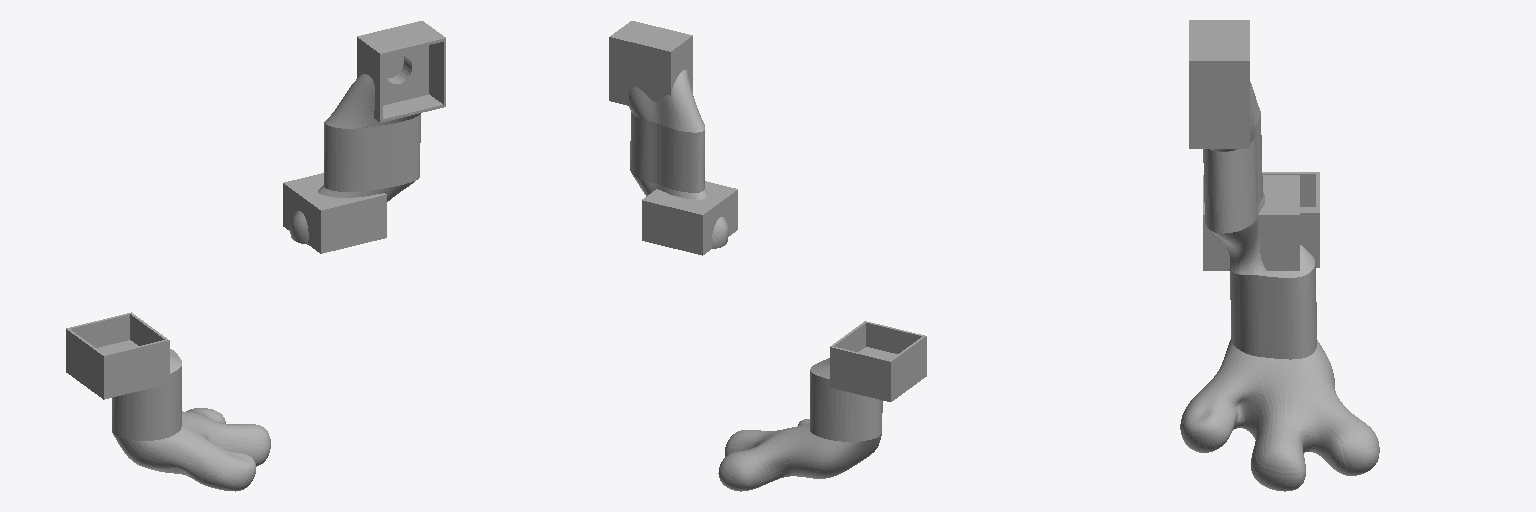
The robot description file, URDF, robot "FrogBot3_top-FrogBot3-z-9_bottom-FrogBot3-z-9":
<?xml version="1.0" ?>
<robot name="FrogBot3_top-FrogBot3-z-9_bottom-FrogBot3-z-9">

<material name="pla_5_percent_infill">
  <color rgba="0.700 0.700 0.700 1.000"/>
</material>

<link name="base_link">
  <inertial>
    <origin xyz="0 0 0" rpy="0 0 0"/>
    <mass value="1.5419899792307459"/>
    <inertia ixx="0.0054836076661745285" iyy="0.013703915460827342" izz="0.013742849788882953" ixy="5.961000823851627e-05" iyz="4.9944941207841843e-05" ixz="-0.0023657822822012154"/>
  </inertial>
  <visual>
    <origin xyz="0 0 0" rpy="0 0 0"/>
    <geometry>
      <mesh filename="simple_meshes/base_link.stl" scale="0.001 0.001 0.001"/>
    </geometry>
    <material name="pla_5_percent_infill"/>
  </visual>
  <collision>
    <origin xyz="0 0 0" rpy="0 0 0"/>
    <geometry>
      <mesh filename="simple_meshes/base_link.stl" scale="0.001 0.001 0.001"/>
    </geometry>
  </collision>
</link>

<link name="body_1_0_1">
  <inertial>
    <origin xyz="-0.065859 -0.113451 -0.001976" rpy="0 0 0"/>
    <mass value="0.05825244996075587"/>
    <inertia ixx="7.401779701818301e-05" iyy="9.274657633629422e-05" izz="3.144661036998228e-05" ixy="3.906924635971223e-06" iyz="5.81595740162434e-06" ixz="-2.1796843568814986e-05"/>
  </inertial>
  <visual>
    <origin xyz="-0.065859 -0.113451 -0.001976" rpy="0 0 0"/>
    <geometry>
      <mesh filename="simple_meshes/body_1_0_1.stl" scale="0.001 0.001 0.001"/>
    </geometry>
    <material name="pla_5_percent_infill"/>
  </visual>
  <collision>
    <origin xyz="-0.065859 -0.113451 -0.001976" rpy="0 0 0"/>
    <geometry>
      <mesh filename="simple_meshes/body_1_0_1.stl" scale="0.001 0.001 0.001"/>
    </geometry>
  </collision>
</link>

<link name="body_1_1_1">
  <inertial>
    <origin xyz="0.083929 -0.113451 -0.010696" rpy="0 0 0"/>
    <mass value="0.09018840338840749"/>
    <inertia ixx="0.00011034544128908901" iyy="0.00016147301227200468" izz="7.169689434959785e-05" ixy="7.1595030686100614e-06" iyz="1.4293410132438177e-05" ixz="-3.633021271587161e-05"/>
  </inertial>
  <visual>
    <origin xyz="0.083929 -0.113451 -0.010696" rpy="0 0 0"/>
    <geometry>
      <mesh filename="simple_meshes/body_1_1_1.stl" scale="0.001 0.001 0.001"/>
    </geometry>
    <material name="pla_5_percent_infill"/>
  </visual>
  <collision>
    <origin xyz="0.083929 -0.113451 -0.010696" rpy="0 0 0"/>
    <geometry>
      <mesh filename="simple_meshes/body_1_1_1.stl" scale="0.001 0.001 0.001"/>
    </geometry>
  </collision>
</link>

<link name="body_1_2_1">
  <inertial>
    <origin xyz="-0.060736 0.113451 -0.005366" rpy="0 0 0"/>
    <mass value="0.060377482328634796"/>
    <inertia ixx="8.061035058996619e-05" iyy="9.781911676444733e-05" izz="3.08981335929142e-05" ixy="-3.849492058857252e-06" iyz="-8.245144629617025e-06" ixz="-2.264904297466596e-05"/>
  </inertial>
  <visual>
    <origin xyz="-0.060736 0.113451 -0.005366" rpy="0 0 0"/>
    <geometry>
      <mesh filename="simple_meshes/body_1_2_1.stl" scale="0.001 0.001 0.001"/>
    </geometry>
    <material name="pla_5_percent_infill"/>
  </visual>
  <collision>
    <origin xyz="-0.060736 0.113451 -0.005366" rpy="0 0 0"/>
    <geometry>
      <mesh filename="simple_meshes/body_1_2_1.stl" scale="0.001 0.001 0.001"/>
    </geometry>
  </collision>
</link>

<link name="body_1_3_1">
  <inertial>
    <origin xyz="0.093982 0.113451 -0.005431" rpy="0 0 0"/>
    <mass value="0.0938692764327006"/>
    <inertia ixx="0.0001046186995870774" iyy="0.0001469423829291458" izz="6.591365614965101e-05" ixy="-5.552051593383459e-06" iyz="-1.29619168445878e-05" ixz="-2.6967552913130456e-05"/>
  </inertial>
  <visual>
    <origin xyz="0.093982 0.113451 -0.005431" rpy="0 0 0"/>
    <geometry>
      <mesh filename="simple_meshes/body_1_3_1.stl" scale="0.001 0.001 0.001"/>
    </geometry>
    <material name="pla_5_percent_infill"/>
  </visual>
  <collision>
    <origin xyz="0.093982 0.113451 -0.005431" rpy="0 0 0"/>
    <geometry>
      <mesh filename="simple_meshes/body_1_3_1.stl" scale="0.001 0.001 0.001"/>
    </geometry>
  </collision>
</link>

<link name="body_2_0_1">
  <inertial>
    <origin xyz="-0.026166 -0.164707 0.127895" rpy="0 0 0"/>
    <mass value="0.12142814301219355"/>
    <inertia ixx="0.00015726924153450055" iyy="0.0002881354570726897" izz="0.00021515924644420654" ixy="3.2779278202870604e-06" iyz="-5.447619948898211e-06" ixz="0.00011102038337744901"/>
  </inertial>
  <visual>
    <origin xyz="-0.026166 -0.164707 0.127895" rpy="0 0 0"/>
    <geometry>
      <mesh filename="simple_meshes/body_2_0_1.stl" scale="0.001 0.001 0.001"/>
    </geometry>
    <material name="pla_5_percent_infill"/>
  </visual>
  <collision>
    <origin xyz="-0.026166 -0.164707 0.127895" rpy="0 0 0"/>
    <geometry>
      <mesh filename="simple_meshes/body_2_0_1.stl" scale="0.001 0.001 0.001"/>
    </geometry>
  </collision>
</link>

<link name="body_2_1_1">
  <inertial>
    <origin xyz="0.127747 -0.174737 0.127895" rpy="0 0 0"/>
    <mass value="0.09571732939847451"/>
    <inertia ixx="0.00011195646025483844" iyy="0.0001651913556045886" izz="0.00011191993527143781" ixy="-1.041822947803737e-05" iyz="5.977710212816401e-06" ixz="6.22998779587899e-05"/>
  </inertial>
  <visual>
    <origin xyz="0.127747 -0.174737 0.127895" rpy="0 0 0"/>
    <geometry>
      <mesh filename="simple_meshes/body_2_1_1.stl" scale="0.001 0.001 0.001"/>
    </geometry>
    <material name="pla_5_percent_infill"/>
  </visual>
  <collision>
    <origin xyz="0.127747 -0.174737 0.127895" rpy="0 0 0"/>
    <geometry>
      <mesh filename="simple_meshes/body_2_1_1.stl" scale="0.001 0.001 0.001"/>
    </geometry>
  </collision>
</link>

<link name="body_2_2_1">
  <inertial>
    <origin xyz="-0.021708 0.167525 0.127895" rpy="0 0 0"/>
    <mass value="0.11898774937774143"/>
    <inertia ixx="0.0001544200841262517" iyy="0.0002833430003338789" izz="0.0002102682674553786" ixy="2.8769886577021102e-06" iyz="-2.2440762868902037e-06" ixz="0.000109949722128837"/>
  </inertial>
  <visual>
    <origin xyz="-0.021708 0.167525 0.127895" rpy="0 0 0"/>
    <geometry>
      <mesh filename="simple_meshes/body_2_2_1.stl" scale="0.001 0.001 0.001"/>
    </geometry>
    <material name="pla_5_percent_infill"/>
  </visual>
  <collision>
    <origin xyz="-0.021708 0.167525 0.127895" rpy="0 0 0"/>
    <geometry>
      <mesh filename="simple_meshes/body_2_2_1.stl" scale="0.001 0.001 0.001"/>
    </geometry>
  </collision>
</link>

<link name="body_2_3_1">
  <inertial>
    <origin xyz="0.128136 0.172985 0.127895" rpy="0 0 0"/>
    <mass value="0.09031557015637327"/>
    <inertia ixx="0.00010964595064733192" iyy="0.0001543168102944477" izz="0.00010846688739868902" ixy="8.577887715155788e-06" iyz="-7.466082158280422e-06" ixz="5.684621143704099e-05"/>
  </inertial>
  <visual>
    <origin xyz="0.128136 0.172985 0.127895" rpy="0 0 0"/>
    <geometry>
      <mesh filename="simple_meshes/body_2_3_1.stl" scale="0.001 0.001 0.001"/>
    </geometry>
    <material name="pla_5_percent_infill"/>
  </visual>
  <collision>
    <origin xyz="0.128136 0.172985 0.127895" rpy="0 0 0"/>
    <geometry>
      <mesh filename="simple_meshes/body_2_3_1.stl" scale="0.001 0.001 0.001"/>
    </geometry>
  </collision>
</link>

<joint name="joint_1_0" type="revolute">
  <origin xyz="0.065859 0.113451 0.001976" rpy="0 0 0"/>
  <parent link="base_link"/>
  <child link="body_1_0_1"/>
  <axis xyz="0.0 1.0 0.0"/>
  <limit upper="1.2" lower="-1.2" effort="3.8" velocity="5.4"/>
</joint>
<transmission name="joint_1_0_tran">
  <type>transmission_interface/SimpleTransmission</type>
  <joint name="joint_1_0">
    <hardwareInterface>PositionJointInterface</hardwareInterface>
  </joint>
  <actuator name="joint_1_0_actr">
    <hardwareInterface>PositionJointInterface</hardwareInterface>
    <mechanicalReduction>1</mechanicalReduction>
  </actuator>
</transmission>

<joint name="joint_1_1" type="revolute">
  <origin xyz="-0.083929 0.113451 0.010696" rpy="0 0 0"/>
  <parent link="base_link"/>
  <child link="body_1_1_1"/>
  <axis xyz="0.0 1.0 0.0"/>
  <limit upper="1.2" lower="-1.2" effort="3.8" velocity="5.4"/>
</joint>
<transmission name="joint_1_1_tran">
  <type>transmission_interface/SimpleTransmission</type>
  <joint name="joint_1_1">
    <hardwareInterface>PositionJointInterface</hardwareInterface>
  </joint>
  <actuator name="joint_1_1_actr">
    <hardwareInterface>PositionJointInterface</hardwareInterface>
    <mechanicalReduction>1</mechanicalReduction>
  </actuator>
</transmission>

<joint name="joint_1_2" type="revolute">
  <origin xyz="0.060736 -0.113451 0.005366" rpy="0 0 0"/>
  <parent link="base_link"/>
  <child link="body_1_2_1"/>
  <axis xyz="0.0 1.0 0.0"/>
  <limit upper="1.2" lower="-1.2" effort="3.8" velocity="5.4"/>
</joint>
<transmission name="joint_1_2_tran">
  <type>transmission_interface/SimpleTransmission</type>
  <joint name="joint_1_2">
    <hardwareInterface>PositionJointInterface</hardwareInterface>
  </joint>
  <actuator name="joint_1_2_actr">
    <hardwareInterface>PositionJointInterface</hardwareInterface>
    <mechanicalReduction>1</mechanicalReduction>
  </actuator>
</transmission>

<joint name="joint_1_3" type="revolute">
  <origin xyz="-0.093982 -0.113451 0.005431" rpy="0 0 0"/>
  <parent link="base_link"/>
  <child link="body_1_3_1"/>
  <axis xyz="0.0 1.0 0.0"/>
  <limit upper="1.2" lower="-1.2" effort="3.8" velocity="5.4"/>
</joint>
<transmission name="joint_1_3_tran">
  <type>transmission_interface/SimpleTransmission</type>
  <joint name="joint_1_3">
    <hardwareInterface>PositionJointInterface</hardwareInterface>
  </joint>
  <actuator name="joint_1_3_actr">
    <hardwareInterface>PositionJointInterface</hardwareInterface>
    <mechanicalReduction>1</mechanicalReduction>
  </actuator>
</transmission>

<joint name="joint_2_0" type="revolute">
  <origin xyz="-0.039693 0.051256 -0.129871" rpy="0 0 0"/>
  <parent link="body_1_0_1"/>
  <child link="body_2_0_1"/>
  <axis xyz="0.0 0.0 1.0"/>
  <limit upper="1.2" lower="-1.2" effort="3.8" velocity="5.4"/>
</joint>
<transmission name="joint_2_0_tran">
  <type>transmission_interface/SimpleTransmission</type>
  <joint name="joint_2_0">
    <hardwareInterface>PositionJointInterface</hardwareInterface>
  </joint>
  <actuator name="joint_2_0_actr">
    <hardwareInterface>PositionJointInterface</hardwareInterface>
    <mechanicalReduction>1</mechanicalReduction>
  </actuator>
</transmission>

<joint name="joint_2_1" type="revolute">
  <origin xyz="-0.043818 0.061286 -0.138591" rpy="0 0 0"/>
  <parent link="body_1_1_1"/>
  <child link="body_2_1_1"/>
  <axis xyz="0.0 0.0 1.0"/>
  <limit upper="1.2" lower="-1.2" effort="3.8" velocity="5.4"/>
</joint>
<transmission name="joint_2_1_tran">
  <type>transmission_interface/SimpleTransmission</type>
  <joint name="joint_2_1">
    <hardwareInterface>PositionJointInterface</hardwareInterface>
  </joint>
  <actuator name="joint_2_1_actr">
    <hardwareInterface>PositionJointInterface</hardwareInterface>
    <mechanicalReduction>1</mechanicalReduction>
  </actuator>
</transmission>

<joint name="joint_2_2" type="revolute">
  <origin xyz="-0.039028 -0.054074 -0.133261" rpy="0 0 0"/>
  <parent link="body_1_2_1"/>
  <child link="body_2_2_1"/>
  <axis xyz="0.0 0.0 1.0"/>
  <limit upper="1.2" lower="-1.2" effort="3.8" velocity="5.4"/>
</joint>
<transmission name="joint_2_2_tran">
  <type>transmission_interface/SimpleTransmission</type>
  <joint name="joint_2_2">
    <hardwareInterface>PositionJointInterface</hardwareInterface>
  </joint>
  <actuator name="joint_2_2_actr">
    <hardwareInterface>PositionJointInterface</hardwareInterface>
    <mechanicalReduction>1</mechanicalReduction>
  </actuator>
</transmission>

<joint name="joint_2_3" type="revolute">
  <origin xyz="-0.034154 -0.059534 -0.133326" rpy="0 0 0"/>
  <parent link="body_1_3_1"/>
  <child link="body_2_3_1"/>
  <axis xyz="0.0 0.0 1.0"/>
  <limit upper="1.2" lower="-1.2" effort="3.8" velocity="5.4"/>
</joint>
<transmission name="joint_2_3_tran">
  <type>transmission_interface/SimpleTransmission</type>
  <joint name="joint_2_3">
    <hardwareInterface>PositionJointInterface</hardwareInterface>
  </joint>
  <actuator name="joint_2_3_actr">
    <hardwareInterface>PositionJointInterface</hardwareInterface>
    <mechanicalReduction>1</mechanicalReduction>
  </actuator>
</transmission>

</robot>

--- Render facts (derived) ---
Views: 3 orthographic renders of the robot side by side, from view 1: azimuth 30°, elevation 25°; view 2: azimuth 150°, elevation 25°; view 3: azimuth 270°, elevation 25°.
Model FrogBot3_top-FrogBot3-z-9_bottom-FrogBot3-z-9 with 9 links and 8 joints (8 revolute), rooted at base_link, posed all joints at 0.
Links seen in each view (by area): view 1: body_1_0_1, body_2_1_1; view 2: body_1_0_1, body_2_1_1; view 3: body_2_1_1, body_1_0_1.
Link boxes in pixels (left/top/right/bottom): body_1_0_1: left=283, top=21, right=445, bottom=253; body_2_1_1: left=66, top=312, right=270, bottom=491; body_1_0_1: left=609, top=21, right=737, bottom=255; body_2_1_1: left=718, top=321, right=926, bottom=491; body_2_1_1: left=1180, top=172, right=1379, bottom=491; body_1_0_1: left=1189, top=20, right=1299, bottom=274.
Bounding box of the posed robot: 0.242 × 0.0997 × 0.2902 m (x, y, z).
Meshes: 9 distinct files referenced, 2 mesh visuals loaded (2 binary STL); not drawn: 7 (reference not matched to a file when rendering).